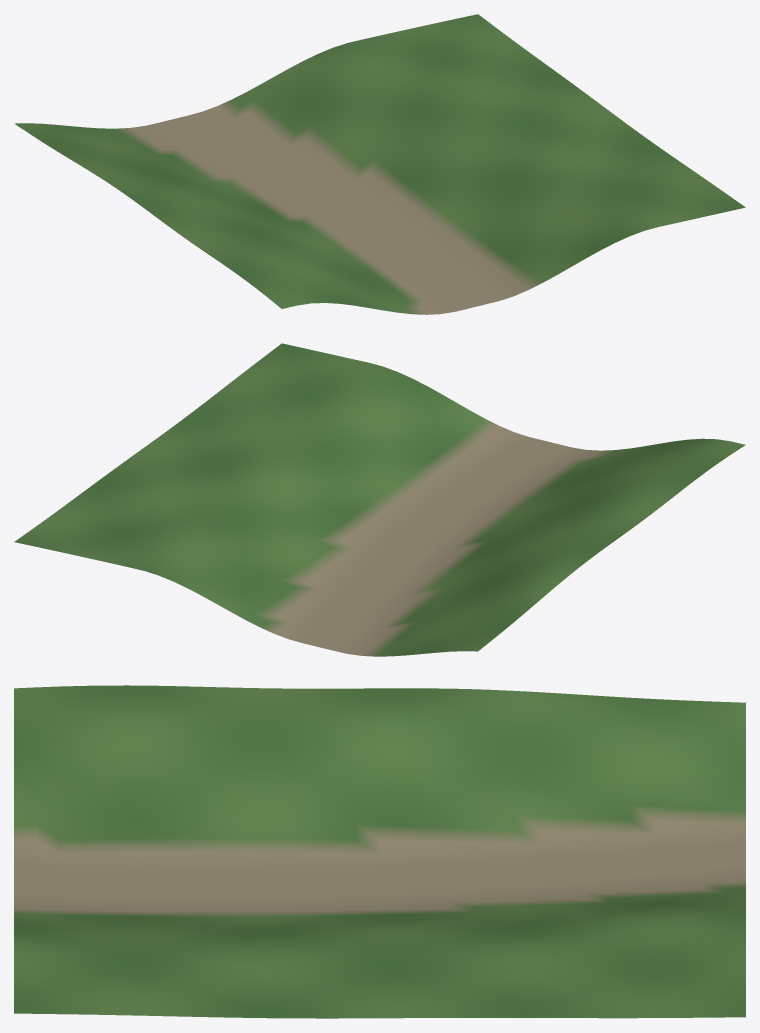
The model's file is chunk_5_10.glb.
3 renders of one model, top to bottom at view 1: azimuth 30°, elevation 25°; view 2: azimuth 150°, elevation 25°; view 3: azimuth 270°, elevation 25°, orthographic. The views are drawn at different scales.
Bounding box in the file's own units: 512 × 49.63 × 512.
